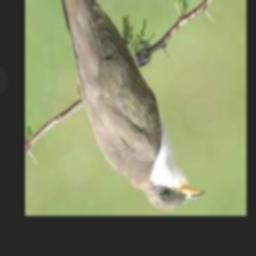Cuckoo: (56, 0, 205, 210)
